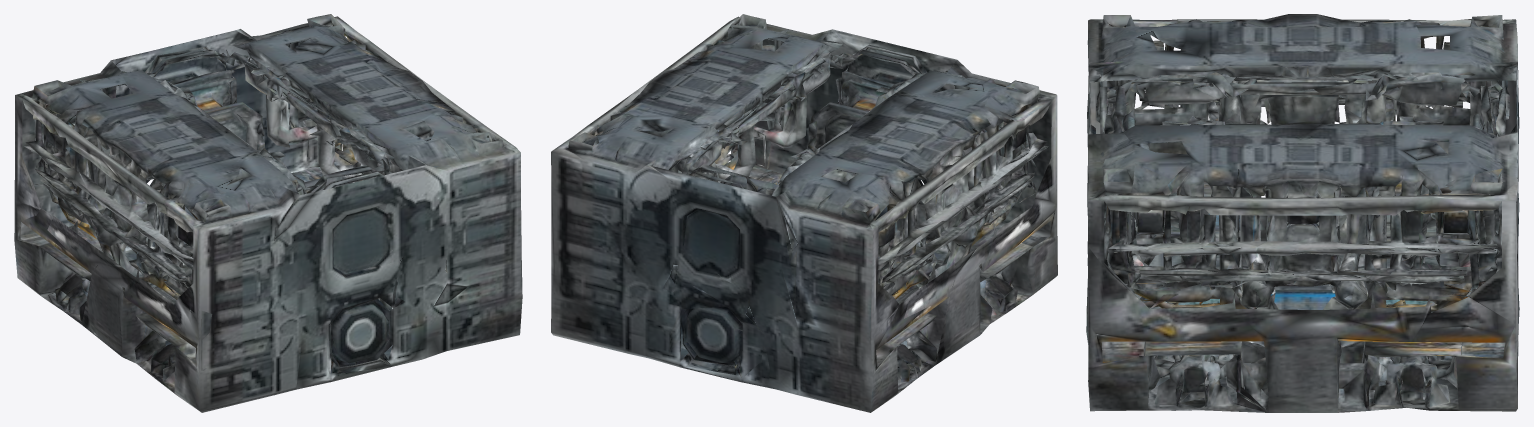
File: capital_engineering.repacked.glb
The picture shows the model from 3 angles, left to right: view 1: azimuth 30°, elevation 25°; view 2: azimuth 150°, elevation 25°; view 3: azimuth 270°, elevation 25°; orthographic projection. The views are drawn at different scales.
Visible parts, largest first — view 1: Mesh1.0; view 2: Mesh1.0; view 3: Mesh1.0.
Boxes of the visible parts, x1,y1,x2,y2 form: Mesh1.0: (14, 14, 522, 412); Mesh1.0: (551, 14, 1057, 412); Mesh1.0: (1086, 14, 1519, 412).
Bounding box in the file's own units: 1.91 × 1.12 × 1.92.
1 material, 1 textured.
